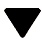dialog_hint: (3, 7, 41, 39)
